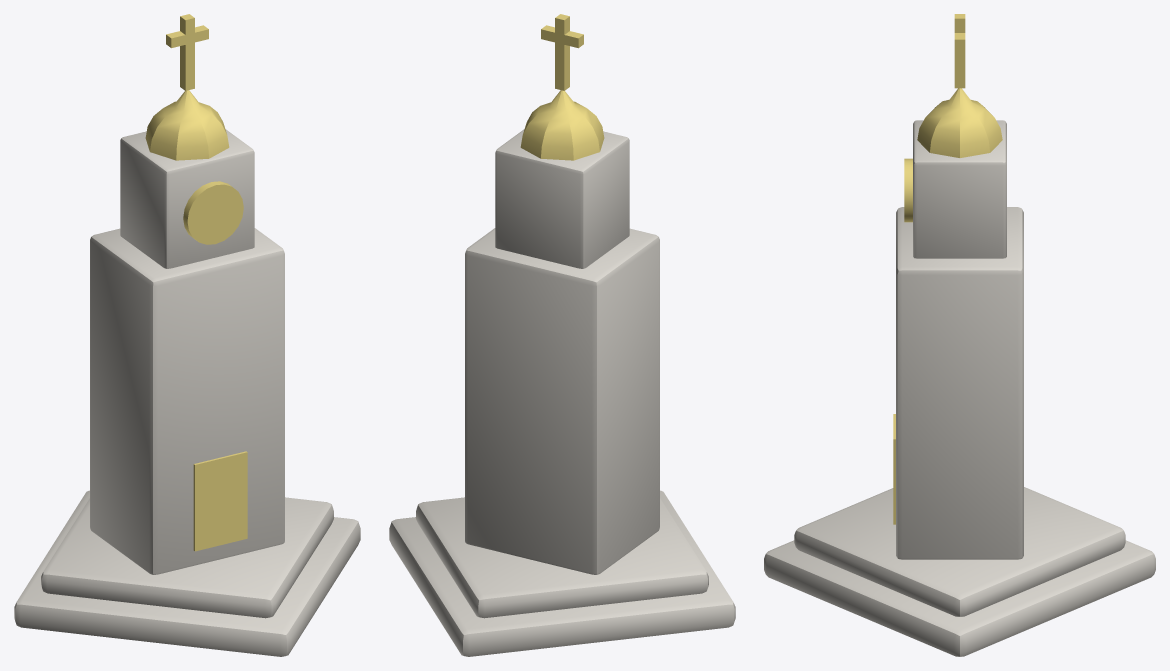
Rendered from Cartagena_Rey.fbx.
The picture shows the model from 3 angles, left to right: view 1: azimuth 30°, elevation 25°; view 2: azimuth 150°, elevation 25°; view 3: azimuth 270°, elevation 25°; orthographic projection.
Visible parts, largest first — view 1: Cartagena_Rey; view 2: Cartagena_Rey; view 3: Cartagena_Rey.
Boxes of the visible parts, left/top/right/bottom form: Cartagena_Rey: left=14, top=14, right=360, bottom=656; Cartagena_Rey: left=389, top=14, right=735, bottom=656; Cartagena_Rey: left=764, top=14, right=1155, bottom=656.
Size of the model in its own units: 0.9168 by 1.45 by 0.9168.
